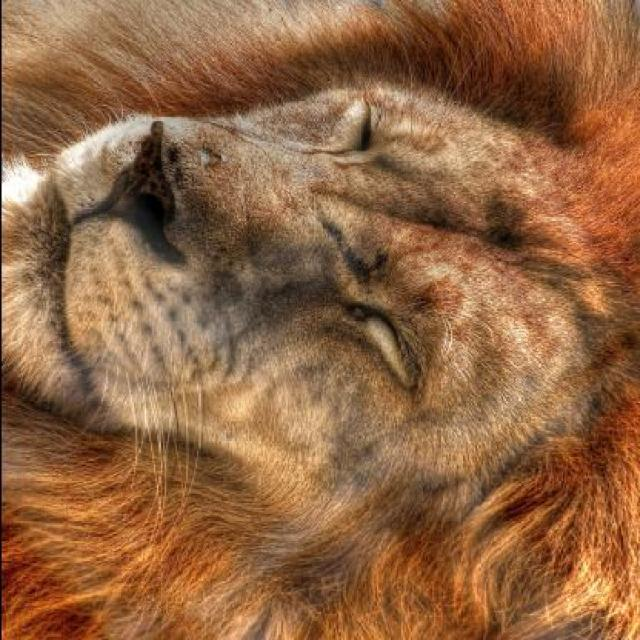Lion: (2, 18, 629, 631)
